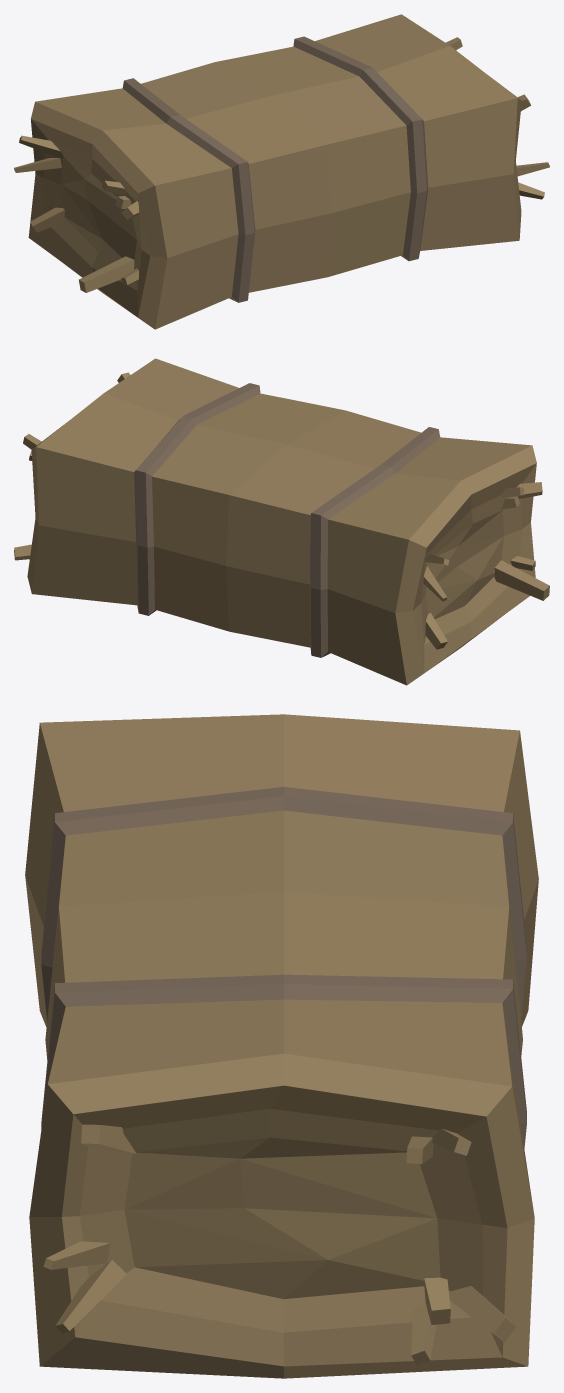
File: SM_Prop_Hay_Bale_01.fbx
The picture shows the model from 3 angles, top to bottom: view 1: azimuth 30°, elevation 25°; view 2: azimuth 150°, elevation 25°; view 3: azimuth 270°, elevation 25°; orthographic projection. The views are drawn at different scales.
Visible parts, largest first — view 1: SM_Prop_Hay_Bale_01; view 2: SM_Prop_Hay_Bale_01; view 3: SM_Prop_Hay_Bale_01.
Boxes of the visible parts, x1,y1,x2,y2 form: SM_Prop_Hay_Bale_01: (14,14,549,329); SM_Prop_Hay_Bale_01: (14,358,549,685); SM_Prop_Hay_Bale_01: (25,714,538,1378).
Bounding box in the file's own units: 182 × 63.81 × 91.39.
